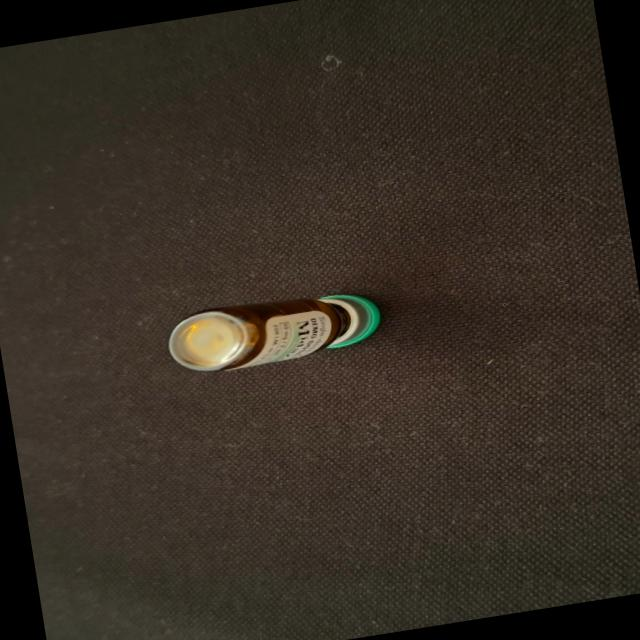midazolm: (167, 283, 382, 377)
